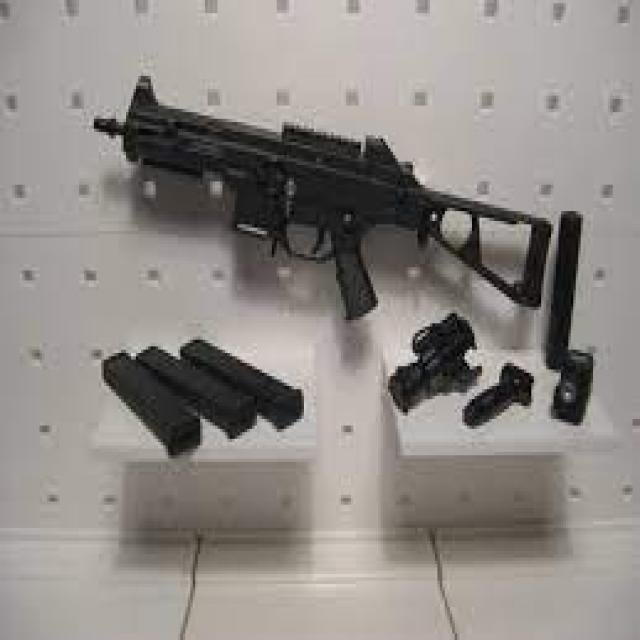Gun: (92, 69, 567, 364)
